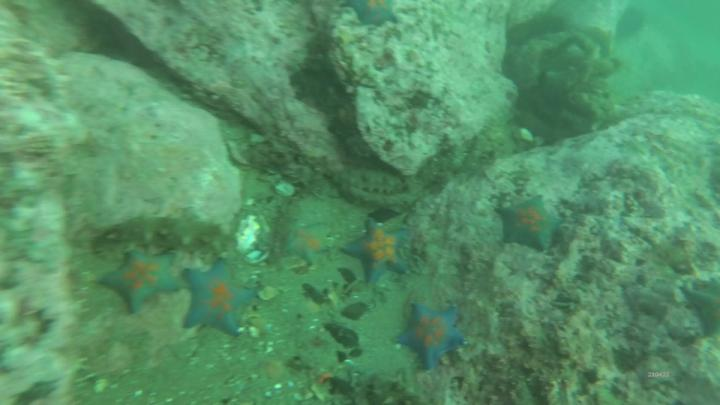holothurian: (185, 263, 252, 335), (96, 255, 179, 313), (401, 305, 465, 369), (347, 222, 410, 285), (496, 198, 560, 252), (289, 225, 332, 262), (343, 2, 399, 26)
scallop: (239, 213, 275, 264)
